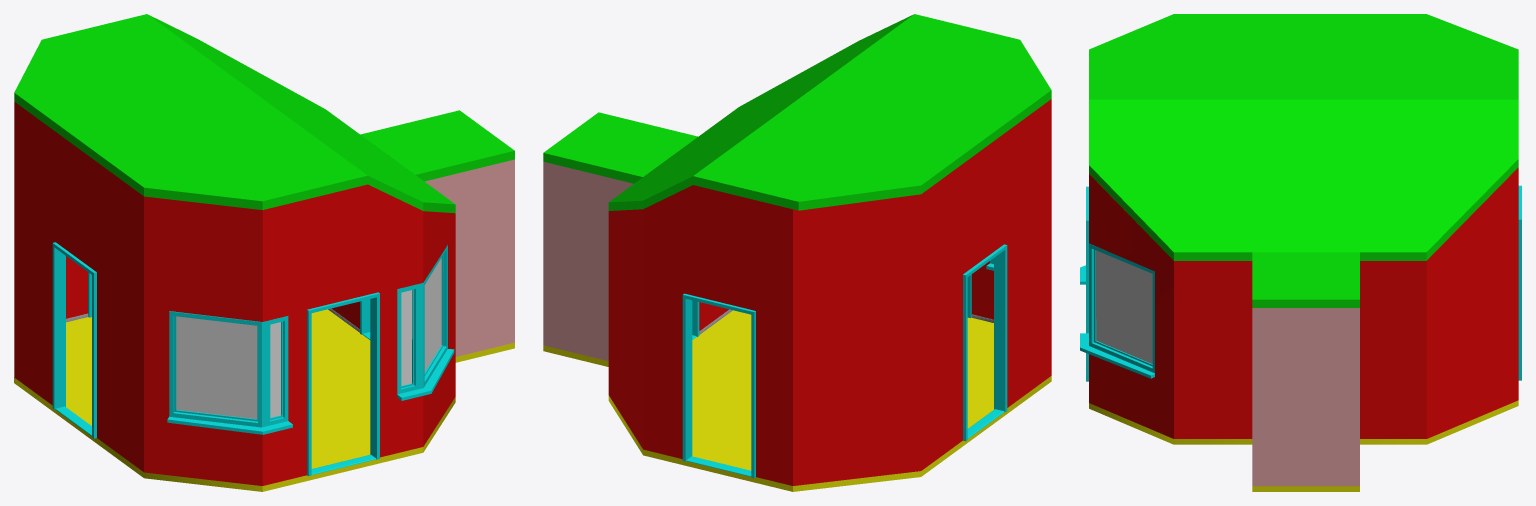
Rendered from FloorPlan526_physics.fbx.
The picture shows the model from 3 angles, left to right: view 1: azimuth 30°, elevation 25°; view 2: azimuth 150°, elevation 25°; view 3: azimuth 270°, elevation 25°; orthographic projection. The views are drawn at different scales.
Parts seen in each view (by area): view 1: FP526:Walls_1, FP526:Ceiling_1, FP526:Floor_1, FP526:Walls_2, FP526:WindowPane_1 (×2), FP526:Ceiling_2, FP526:WindowFrame_1, FP526:WindowFrame_2, FP526:DoorFrame_4, FP526:DoorFrame_1; view 2: FP526:Walls_1, FP526:Ceiling_1, FP526:Floor_1, FP526:Walls_2, FP526:Ceiling_2, FP526:DoorFrame_4, FP526:DoorFrame_3; view 3: FP526:Ceiling_1, FP526:Walls_1, FP526:Walls_2, FP526:Ceiling_2, FP526:WindowPane_1, FP526:WindowFrame_2, FP526:Floor_1, FP526:DoorFrame_3, FP526:Floor_2, FP526:DoorFrame_1.
Boxes of the visible parts, box(x1,y1,x2,y2) form: FP526:Walls_1: box(14, 102, 455, 485); FP526:Ceiling_1: box(14, 14, 455, 213); FP526:Floor_1: box(14, 309, 455, 491); FP526:Walls_2: box(424, 159, 514, 356); FP526:WindowPane_1 (×2): box(176, 258, 441, 418); FP526:Ceiling_2: box(360, 110, 514, 181); FP526:WindowFrame_1: box(167, 311, 292, 434); FP526:WindowFrame_2: box(397, 245, 454, 400); FP526:DoorFrame_4: box(52, 242, 96, 438); FP526:DoorFrame_1: box(307, 292, 379, 476); FP526:Walls_1: box(608, 99, 1051, 485); FP526:Ceiling_1: box(608, 14, 1051, 210); FP526:Floor_1: box(608, 310, 1051, 491); FP526:Walls_2: box(543, 161, 633, 360); FP526:Ceiling_2: box(543, 112, 697, 183); FP526:DoorFrame_4: box(963, 244, 1007, 441); FP526:DoorFrame_3: box(682, 293, 755, 478); FP526:Ceiling_1: box(1089, 14, 1518, 260); FP526:Walls_1: box(1089, 167, 1518, 438); FP526:Walls_2: box(1252, 308, 1359, 486); FP526:Ceiling_2: box(1252, 252, 1359, 307); FP526:WindowPane_1: box(1096, 250, 1152, 363); FP526:WindowFrame_2: box(1080, 243, 1154, 378); FP526:Floor_1: box(1089, 400, 1518, 444); FP526:DoorFrame_3: box(1518, 185, 1521, 380); FP526:Floor_2: box(1252, 486, 1359, 491); FP526:DoorFrame_1: box(1086, 186, 1088, 381).
Size of the model in its own units: 539 by 362 by 512.
